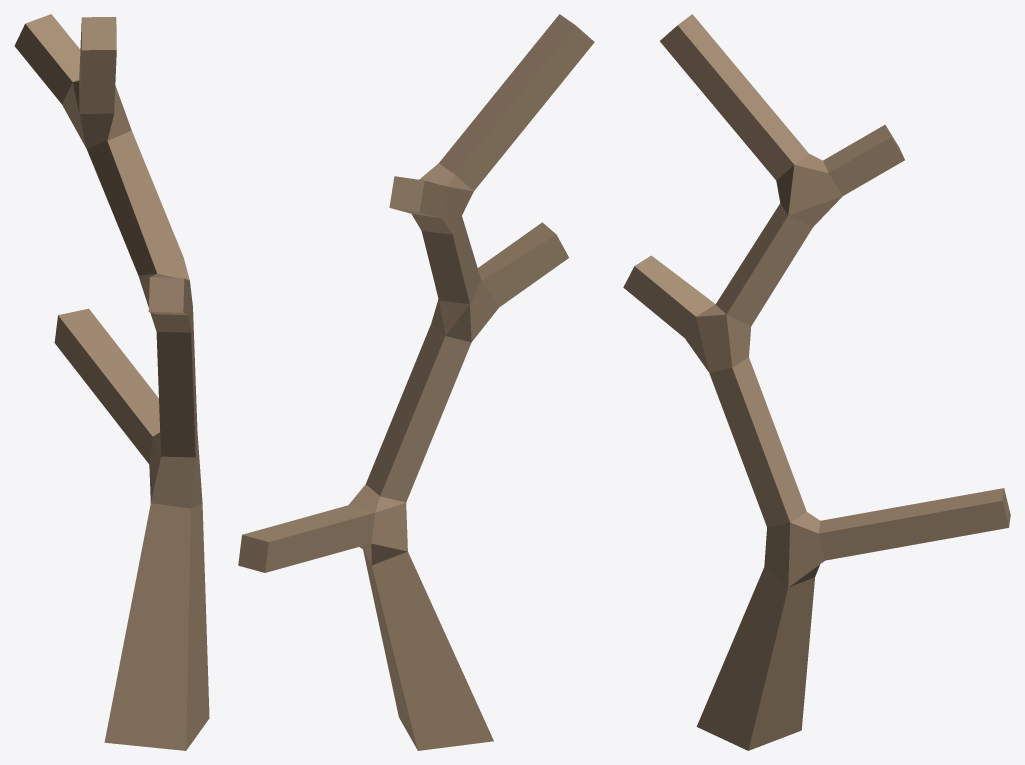
File: tree1.fbx
3 renders of one model, left to right at view 1: azimuth 30°, elevation 25°; view 2: azimuth 150°, elevation 25°; view 3: azimuth 270°, elevation 25°, orthographic. The views are drawn at different scales.
Parts seen in each view (by area): view 1: Plane.000; view 2: Plane.000; view 3: Plane.000.
Part boxes in pixels (<box>): Plane.000: <box>14,14,209,750</box>; Plane.000: <box>238,14,594,750</box>; Plane.000: <box>623,14,1010,750</box>.
Bounding box in the file's own units: 113 × 424 × 222.
